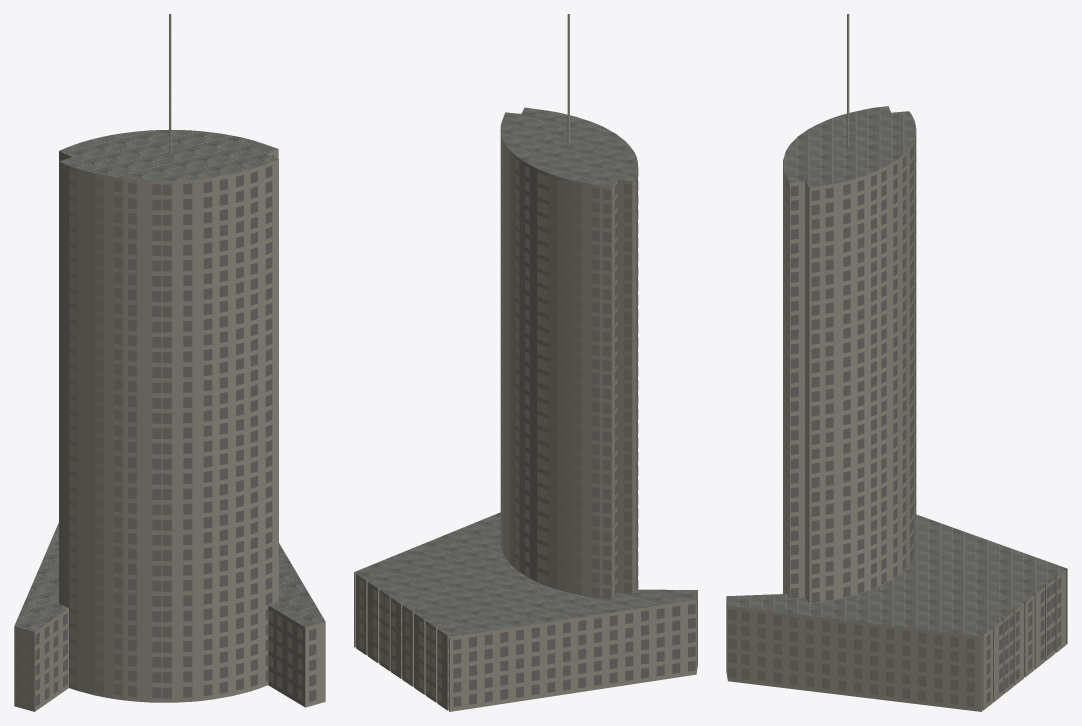
Rendered from hyatt-regency-paris-etoile.glb.
3 renders of one model, left to right at view 1: azimuth 30°, elevation 25°; view 2: azimuth 150°, elevation 25°; view 3: azimuth 270°, elevation 25°, orthographic. The views are drawn at different scales.
Parts seen in each view (by area): view 1: stone, window, roof; view 2: stone, window, roof; view 3: stone, window, roof.
Boxes of the visible parts, x1,y1,x2,y2 form: stone: [14, 15, 325, 711]; window: [20, 155, 316, 706]; roof: [14, 14, 325, 631]; stone: [354, 14, 697, 711]; window: [359, 139, 697, 706]; roof: [354, 14, 697, 636]; stone: [726, 15, 1067, 711]; window: [726, 137, 1061, 706]; roof: [726, 14, 1066, 636].
Bounding box in the file's own units: 83.74 × 174 × 86.18.
Materials: 3 (3 with a texture image).
